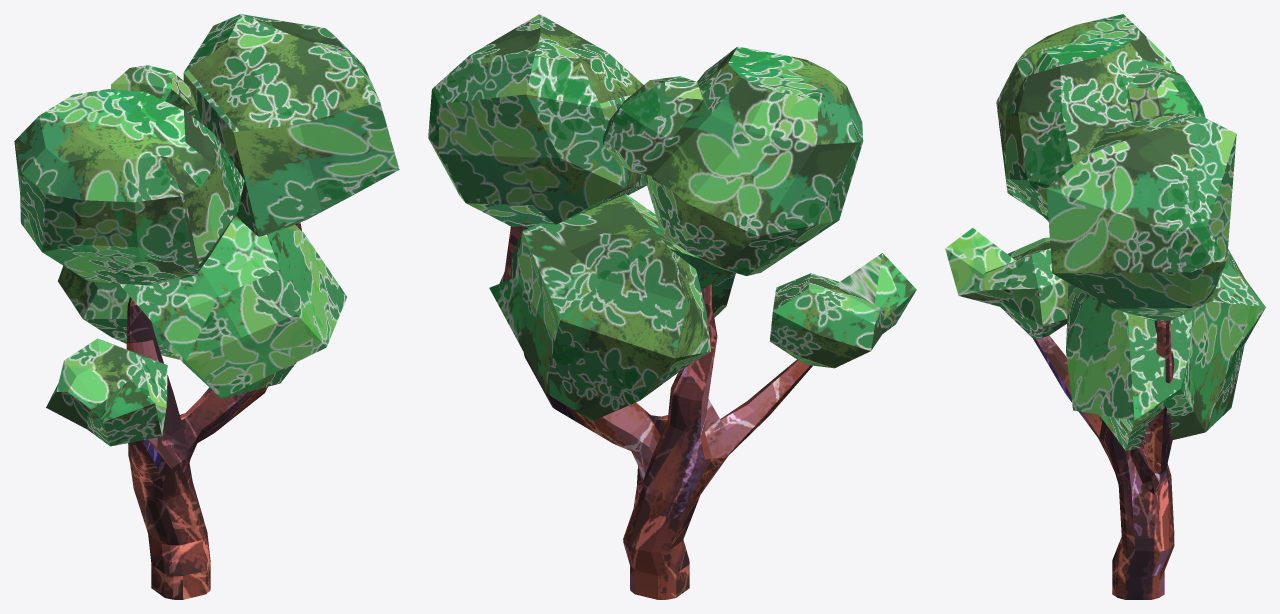
The model's file is Tree2Textured.fbx.
3 renders of one model, left to right at view 1: azimuth 30°, elevation 25°; view 2: azimuth 150°, elevation 25°; view 3: azimuth 270°, elevation 25°, orthographic. The views are drawn at different scales.
Visible parts, largest first — view 1: Cube; view 2: Cube; view 3: Cube.
Part boxes in pixels (x1,y1,x2,y2): Cube: (14, 14, 399, 599); Cube: (428, 14, 916, 599); Cube: (945, 14, 1265, 599).
Bounding box in the file's own units: 1643 × 2200 × 1238.
2 materials, 2 textured.
